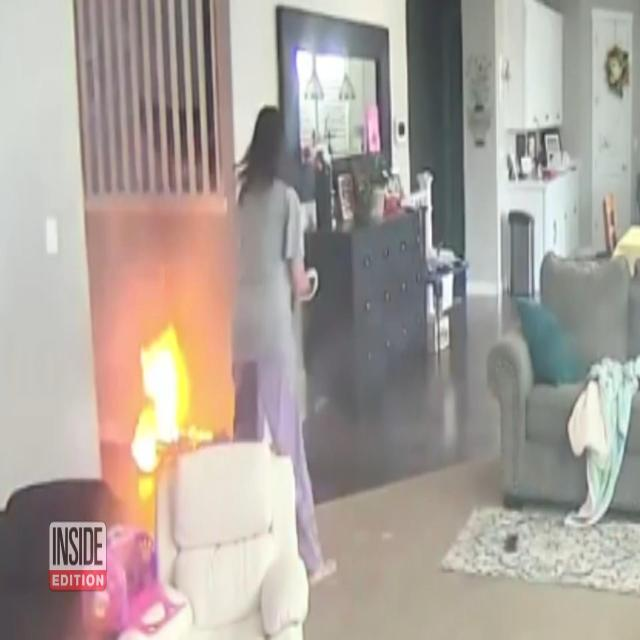fire: (130, 321, 212, 473)
